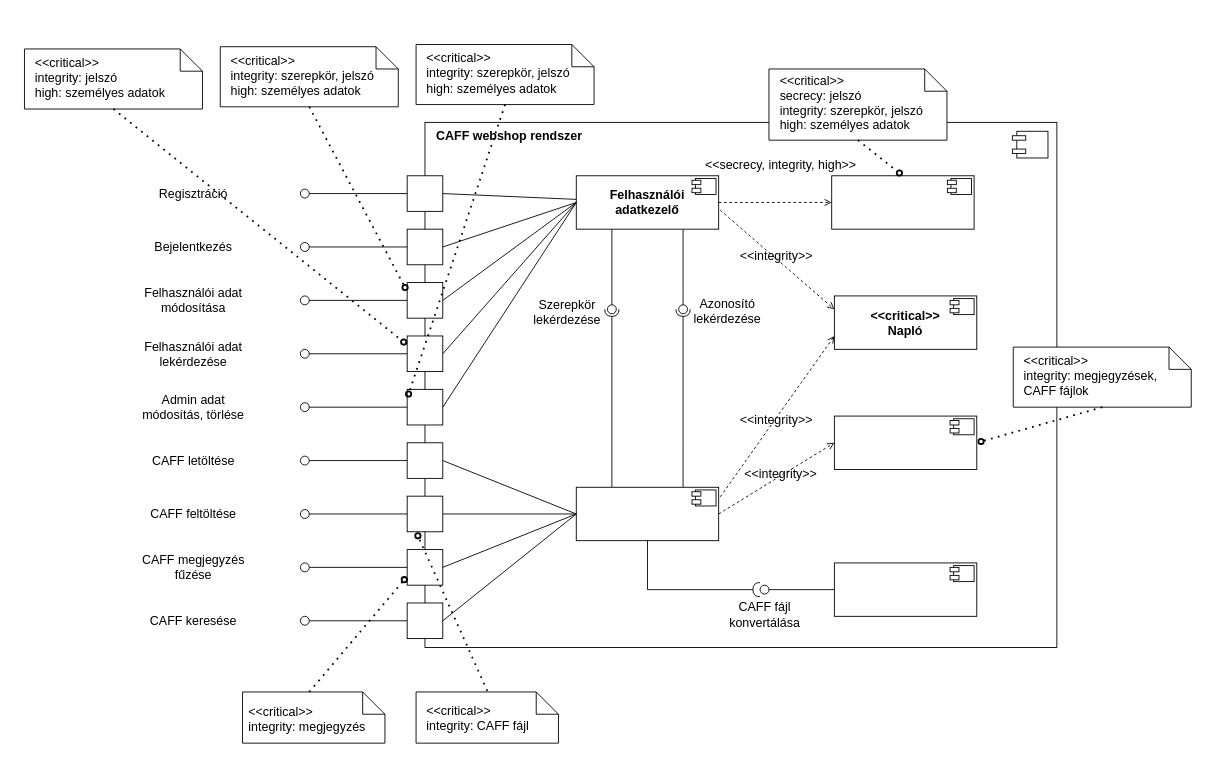
Some shapes in this 1223 by 769 pixel diagram are drawn without their labels. The shapes that lost their labels are listed below. From the top down, each one's box as (x1, y1, x2, y2) in pixels, then its label:
(831, 175, 974, 229): <<critical>> Felhasználói adatbázis
(833, 415, 977, 469): <<critical>> CAFF adatbázis
(575, 486, 719, 541): CAFF adatkezelő
(833, 562, 977, 616): CAFF natív parser
